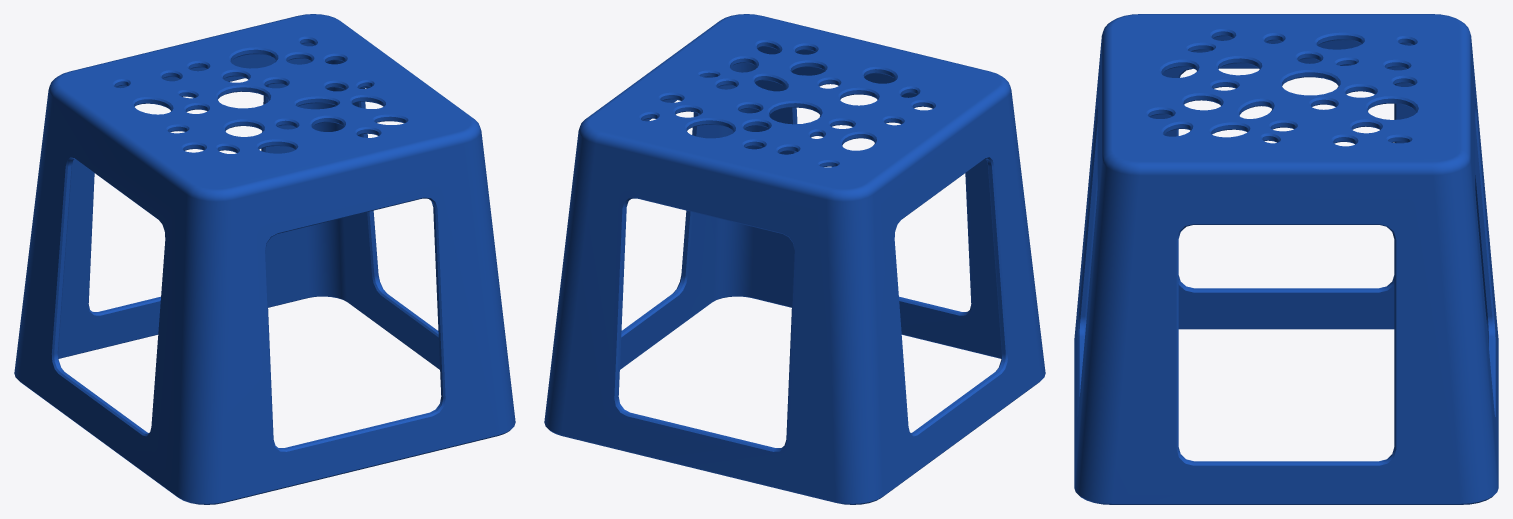
The model's file is ghe_nhua_xanh.glb.
The picture shows the model from 3 angles, left to right: view 1: azimuth 30°, elevation 25°; view 2: azimuth 150°, elevation 25°; view 3: azimuth 270°, elevation 25°; orthographic projection. The views are drawn at different scales.
Parts seen in each view (by area): view 1: ghe_nhua_xanh; view 2: ghe_nhua_xanh; view 3: ghe_nhua_xanh.
Boxes of the visible parts, bbox=[...] form: ghe_nhua_xanh: bbox=[14, 14, 515, 504]; ghe_nhua_xanh: bbox=[544, 14, 1045, 504]; ghe_nhua_xanh: bbox=[1074, 14, 1498, 504].
Size of the model in its own units: 0.3348 by 0.2856 by 0.3348.
